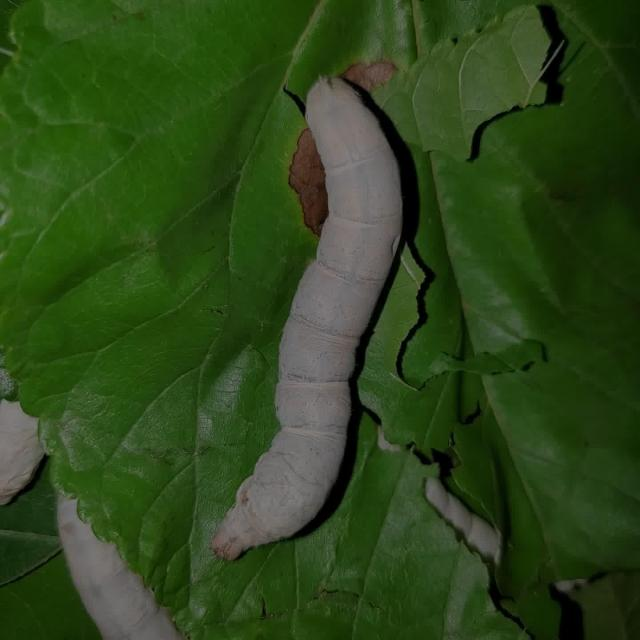Healthy: (203, 61, 419, 566)
